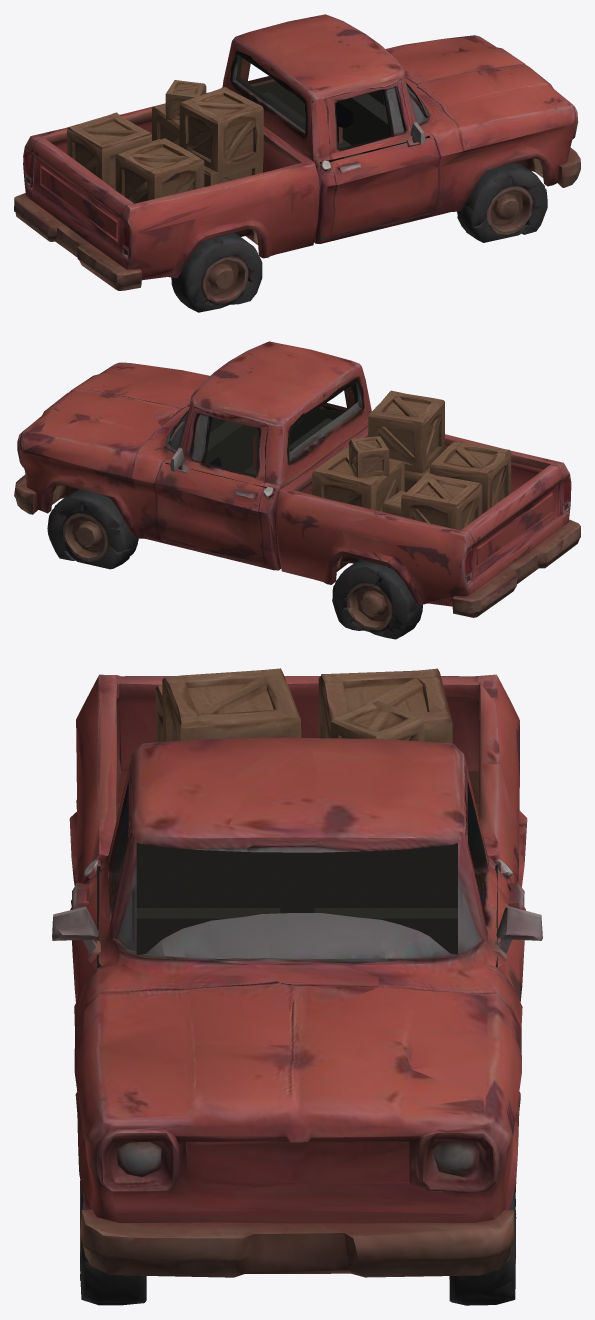
File: pickup_b.glb
The picture shows the model from 3 angles, top to bottom: view 1: azimuth 30°, elevation 25°; view 2: azimuth 150°, elevation 25°; view 3: azimuth 270°, elevation 25°; orthographic projection. The views are drawn at different scales.
Parts seen in each view (by area): view 1: body, door_front_1, hood, tailgate, wheel_1, wheel_4, door_back_1; view 2: body, door_back_1, hood, tailgate, wheel_2, wheel_3, door_front_1; view 3: body, hood, door_back_1, door_front_1, wheel_4, wheel_3.
Part boxes in pixels (left/top/right/bottom): body: left=14, top=14, right=580, bottom=312; door_front_1: left=308, top=77, right=439, bottom=243; hood: left=385, top=35, right=573, bottom=140; tailgate: left=14, top=137, right=136, bottom=283; wheel_1: left=202, top=233, right=266, bottom=306; wheel_4: left=490, top=158, right=557, bottom=235; door_back_1: left=221, top=49, right=342, bottom=143; body: left=14, top=341, right=580, bottom=639; door_back_1: left=156, top=403, right=286, bottom=570; hood: left=22, top=362, right=209, bottom=467; tailgate: left=459, top=464, right=580, bottom=609; wheel_2: left=328, top=559, right=392, bottom=632; wheel_3: left=41, top=486, right=104, bottom=562; door_front_1: left=253, top=384, right=371, bottom=470; body: left=69, top=668, right=527, bottom=1305; hood: left=84, top=962, right=511, bottom=1126; door_back_1: left=462, top=753, right=542, bottom=1001; door_front_1: left=52, top=753, right=132, bottom=1002; wheel_4: left=80, top=1180, right=146, bottom=1302; wheel_3: left=449, top=1186, right=516, bottom=1299.
Size of the model in its own units: 5.2 by 1.91 by 2.33.
6 materials, 4 textured.
